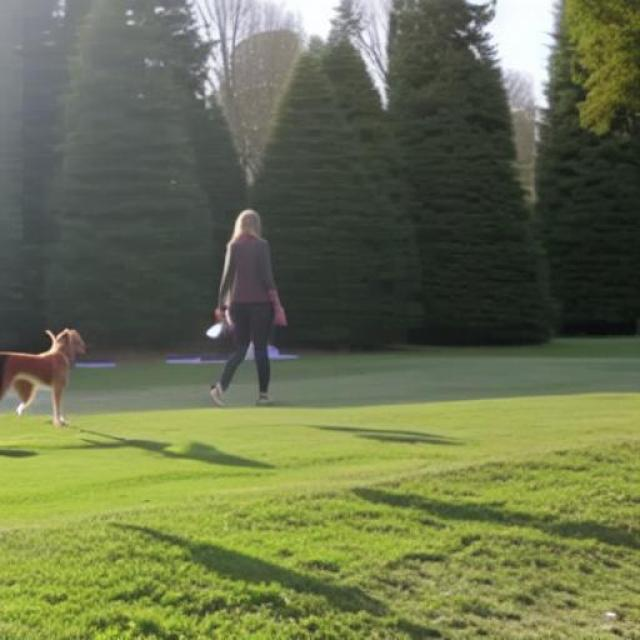Unleashed_Dog: (0, 302, 271, 429)
